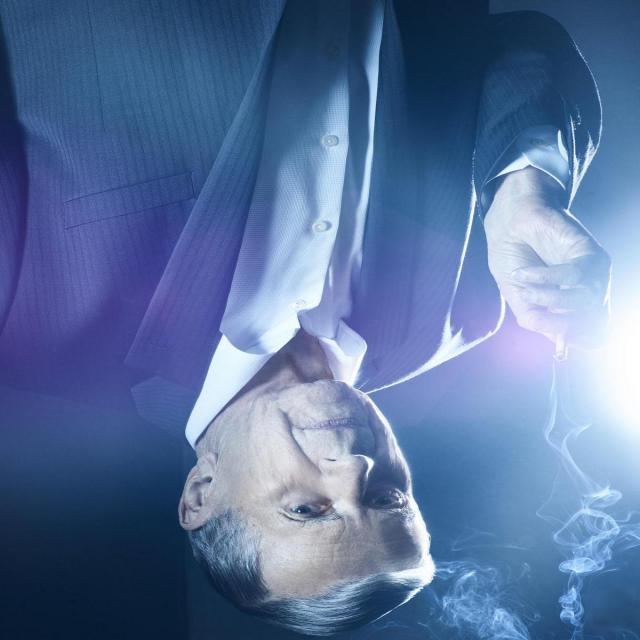cigarette: (518, 294, 586, 374)
